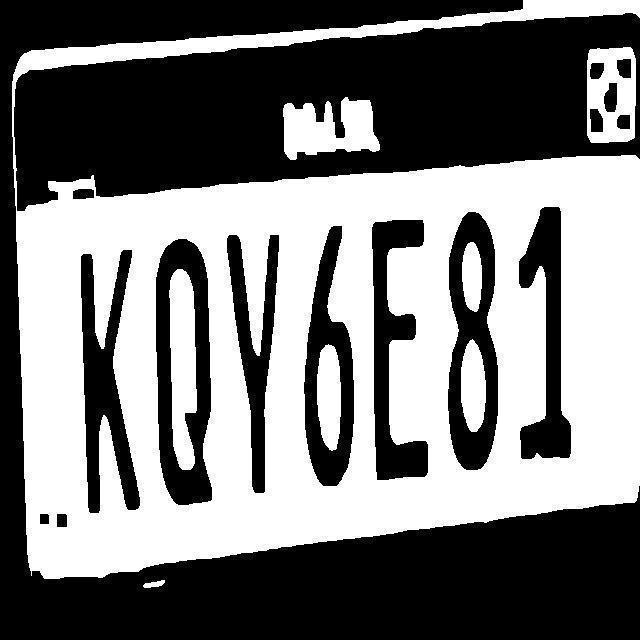1: (514, 200, 584, 471)
6: (308, 225, 360, 480)
8: (442, 211, 508, 471)
e: (370, 220, 430, 480)
k: (60, 248, 150, 508)
q: (153, 233, 219, 512)
y: (225, 222, 288, 500)
